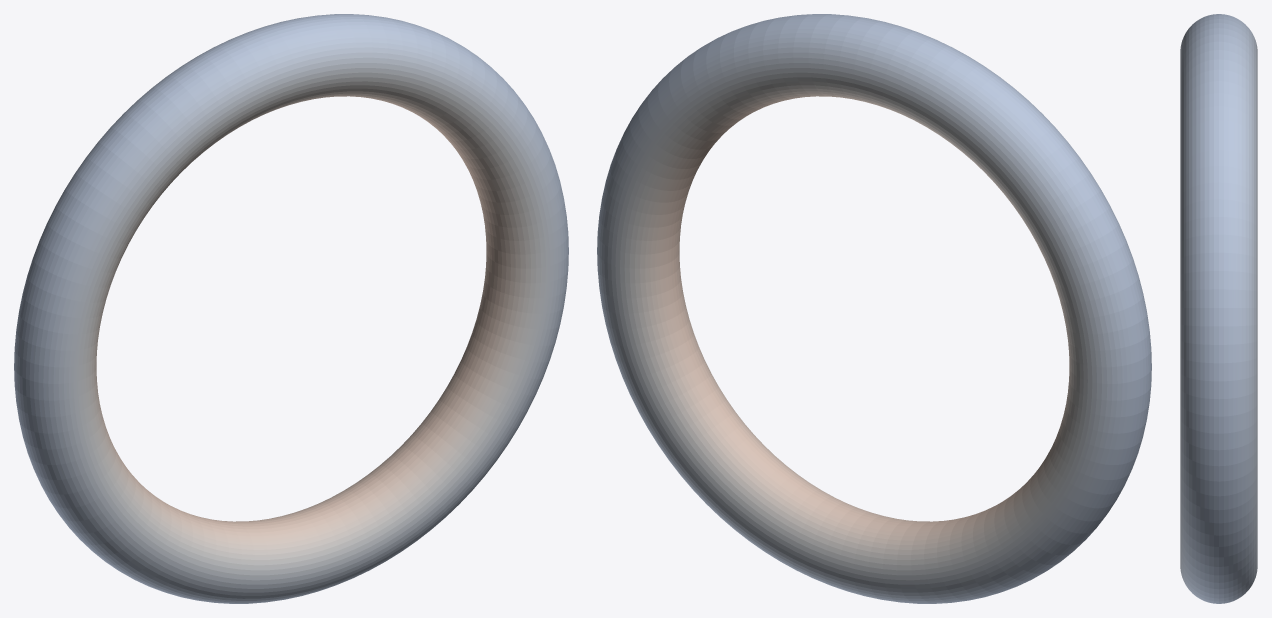
The picture shows the model from 3 angles, left to right: view 1: azimuth 30°, elevation 25°; view 2: azimuth 150°, elevation 25°; view 3: azimuth 270°, elevation 25°; orthographic projection. The views are drawn at different scales.
Parts seen in each view (by area): view 1: world; view 2: world; view 3: world.
Boxes of the visible parts, bbox=[...] form: world: bbox=[14, 14, 568, 603]; world: bbox=[597, 14, 1151, 603]; world: bbox=[1180, 14, 1257, 603].
Size of the model in its own units: 31.47 by 31.47 by 4.13.
